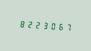eight: (17, 18, 24, 29)
seven: (65, 21, 72, 32)
six: (57, 20, 64, 32)
three: (41, 19, 48, 31)
two: (25, 18, 32, 30), (33, 19, 40, 30)
zero: (49, 20, 56, 31)
